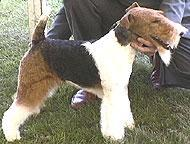wire-haired_fox_terrier: (3, 3, 187, 143)
